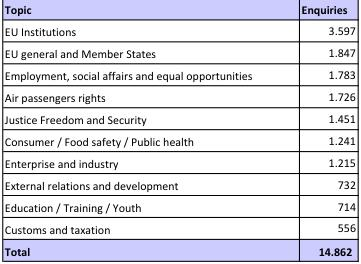table: (3, 4, 354, 257)
table column: (3, 4, 275, 257), (275, 4, 354, 257)
table column header: (3, 4, 354, 20)
table row: (3, 20, 354, 42), (3, 42, 354, 64), (3, 64, 354, 86), (3, 86, 354, 108), (3, 108, 354, 130), (3, 130, 354, 152), (3, 152, 354, 174), (3, 174, 354, 196), (3, 196, 354, 218), (3, 218, 354, 240), (3, 240, 354, 257), (3, 4, 354, 20)
